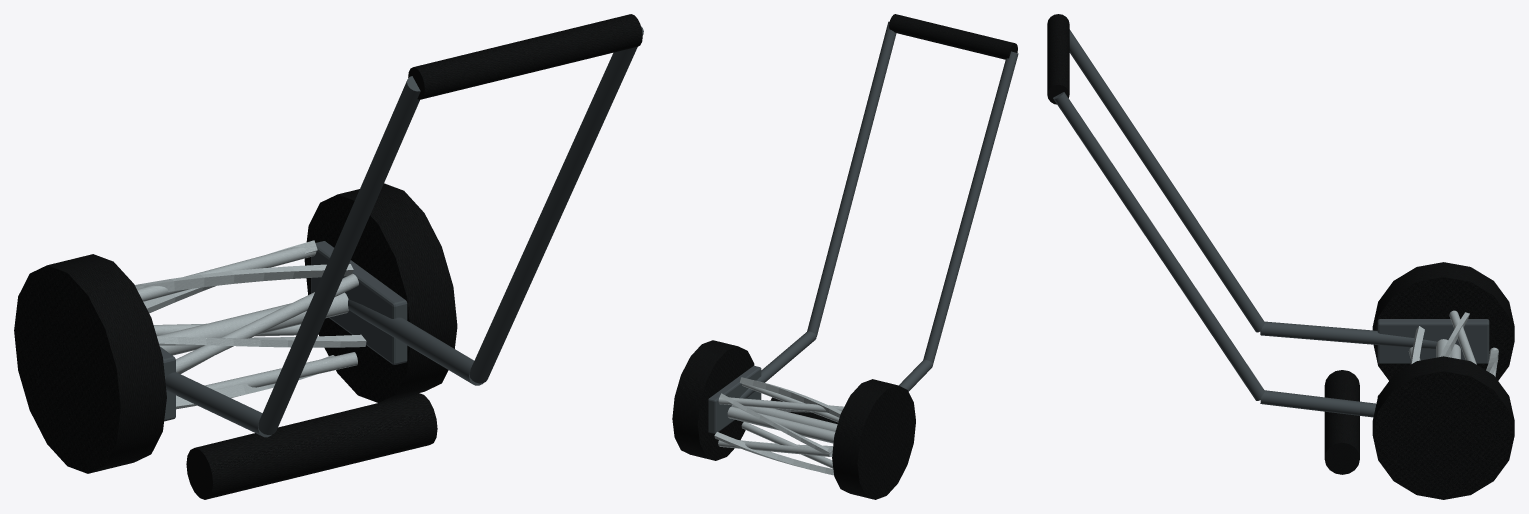
The model's file is ReelMower.gltf.
3 views of the same model, side by side, from view 1: azimuth 30°, elevation 25°; view 2: azimuth 150°, elevation 25°; view 3: azimuth 270°, elevation 25° (orthographic). The views are drawn at different scales.
Visible parts, largest first — view 1: ReelMower__Body, ReelMower__Wheel_L, ReelMower__Wheel_R, ReelMower__Wheel_Reel; view 2: ReelMower__Body, ReelMower__Wheel_L, ReelMower__Wheel_R, ReelMower__Wheel_Reel; view 3: ReelMower__Body, ReelMower__Wheel_R, ReelMower__Wheel_L, ReelMower__Wheel_Reel.
Boxes of the visible parts, x1=… form: ReelMower__Body: x1=137, y1=14, x2=643, y2=499; ReelMower__Wheel_L: x1=14, y1=254, x2=166, y2=473; ReelMower__Wheel_R: x1=304, y1=183, x2=457, y2=402; ReelMower__Wheel_Reel: x1=135, y1=240, x2=366, y2=409; ReelMower__Body: x1=708, y1=14, x2=1018, y2=468; ReelMower__Wheel_L: x1=832, y1=379, x2=915, y2=499; ReelMower__Wheel_R: x1=672, y1=340, x2=754, y2=460; ReelMower__Wheel_Reel: x1=714, y1=377, x2=841, y2=475; ReelMower__Body: x1=1047, y1=14, x2=1498, y2=474; ReelMower__Wheel_R: x1=1372, y1=356, x2=1514, y2=499; ReelMower__Wheel_L: x1=1372, y1=262, x2=1514, y2=380; ReelMower__Wheel_Reel: x1=1410, y1=312, x2=1498, y2=374.
Bounding box in the file's own units: 0.714 × 1.21 × 1.29.
Materials: 2 (1 with a texture image).
